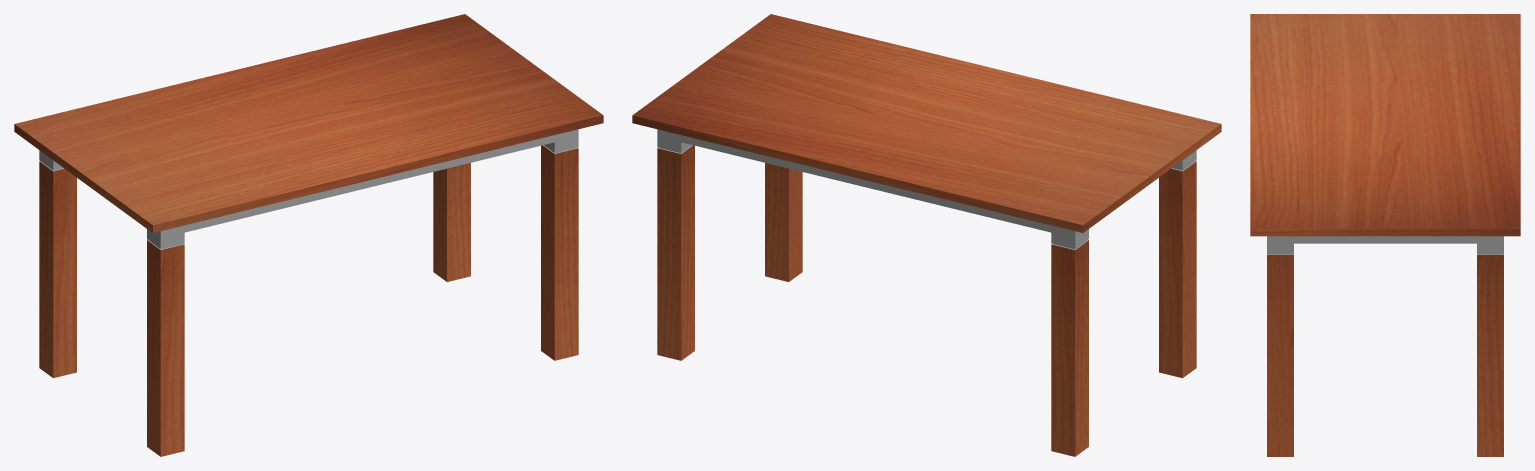
Rendered from sh_scopia_wooden_table_office.glb.
3 renders of one model, left to right at view 1: azimuth 30°, elevation 25°; view 2: azimuth 150°, elevation 25°; view 3: azimuth 270°, elevation 25°, orthographic. The views are drawn at different scales.
Size of the model in its own units: 1.51 by 0.775 by 0.804.
2 materials, 1 textured.
